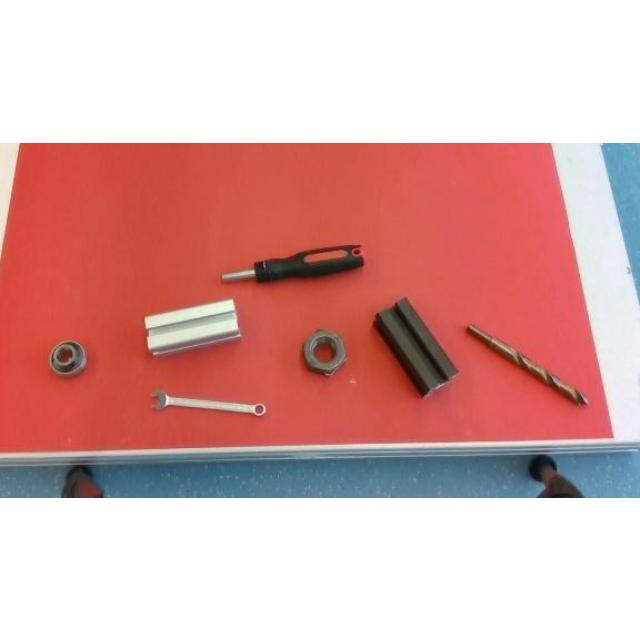Bearing2: (50, 340, 86, 374)
Drill: (467, 324, 589, 404)
M30: (303, 328, 345, 374)
S40_40_B: (376, 296, 458, 396)
S40_40_G: (144, 298, 240, 354)
